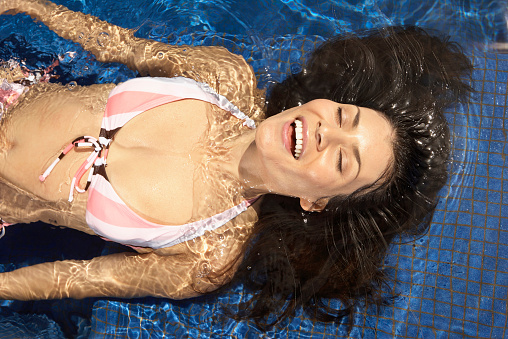deitado: (0, 19, 476, 310)
